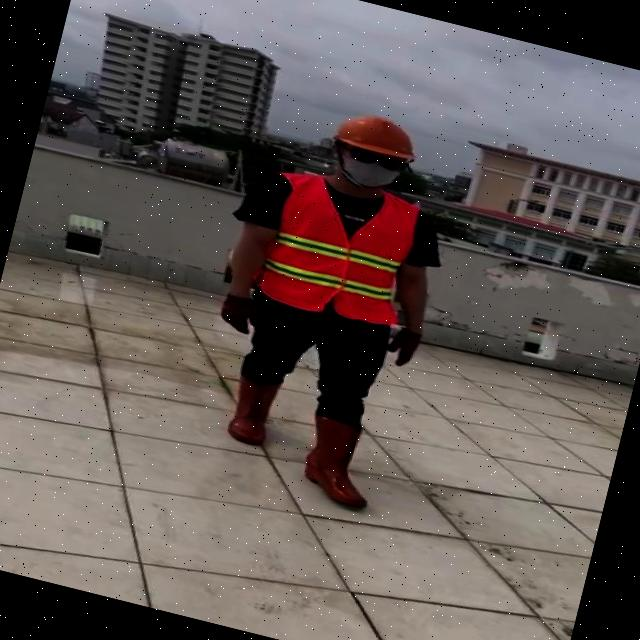boots: (295, 409, 385, 512), (224, 370, 285, 450)
